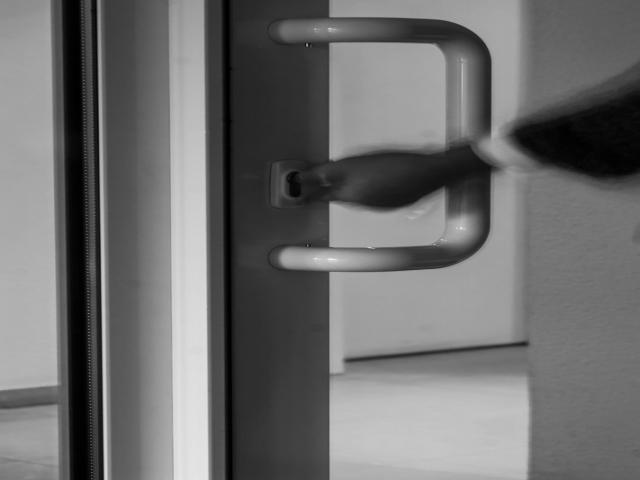Door-handle: (266, 17, 492, 270)
